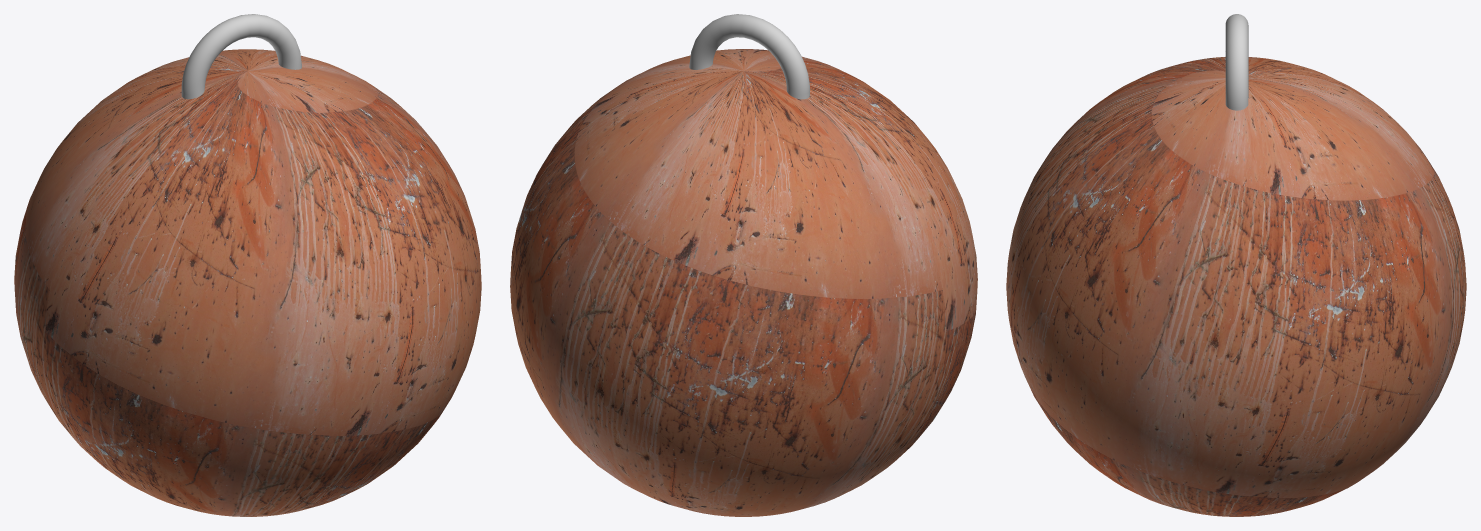
Rendered from mooring.glb.
The picture shows the model from 3 angles, left to right: view 1: azimuth 30°, elevation 25°; view 2: azimuth 150°, elevation 25°; view 3: azimuth 270°, elevation 25°; orthographic projection.
Parts seen in each view (by area): view 1: buoy; view 2: buoy; view 3: buoy.
Part boxes in pixels (box(x1,y1,x2,y2)): buoy: box(14, 14, 481, 516); buoy: box(510, 14, 977, 516); buoy: box(1006, 14, 1466, 516).
Size of the model in its own units: 4 by 4.53 by 4.
4 materials, 1 textured.
